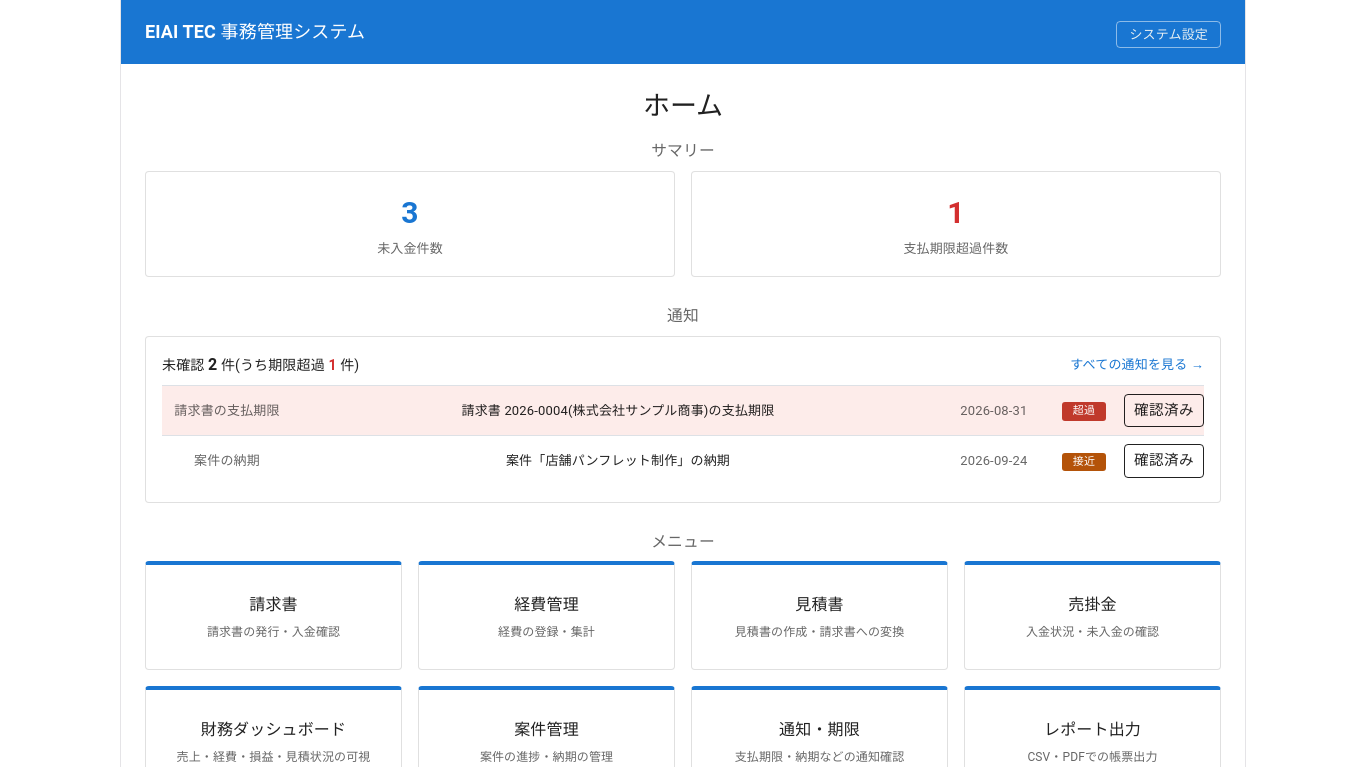
HomePage 通知エリア(F-09) › 解消済み(404)の場合はメッセージを表示して再取得する
Expected: the link "請求書 2026-0004(株式会社サンプル商事)の支払期限" is shown, [462,403,774,418]
Step 1. Click the button "確認済み" in the row of "2026-08-31" → coordinates (1164, 410), box [1124,394,1204,427]
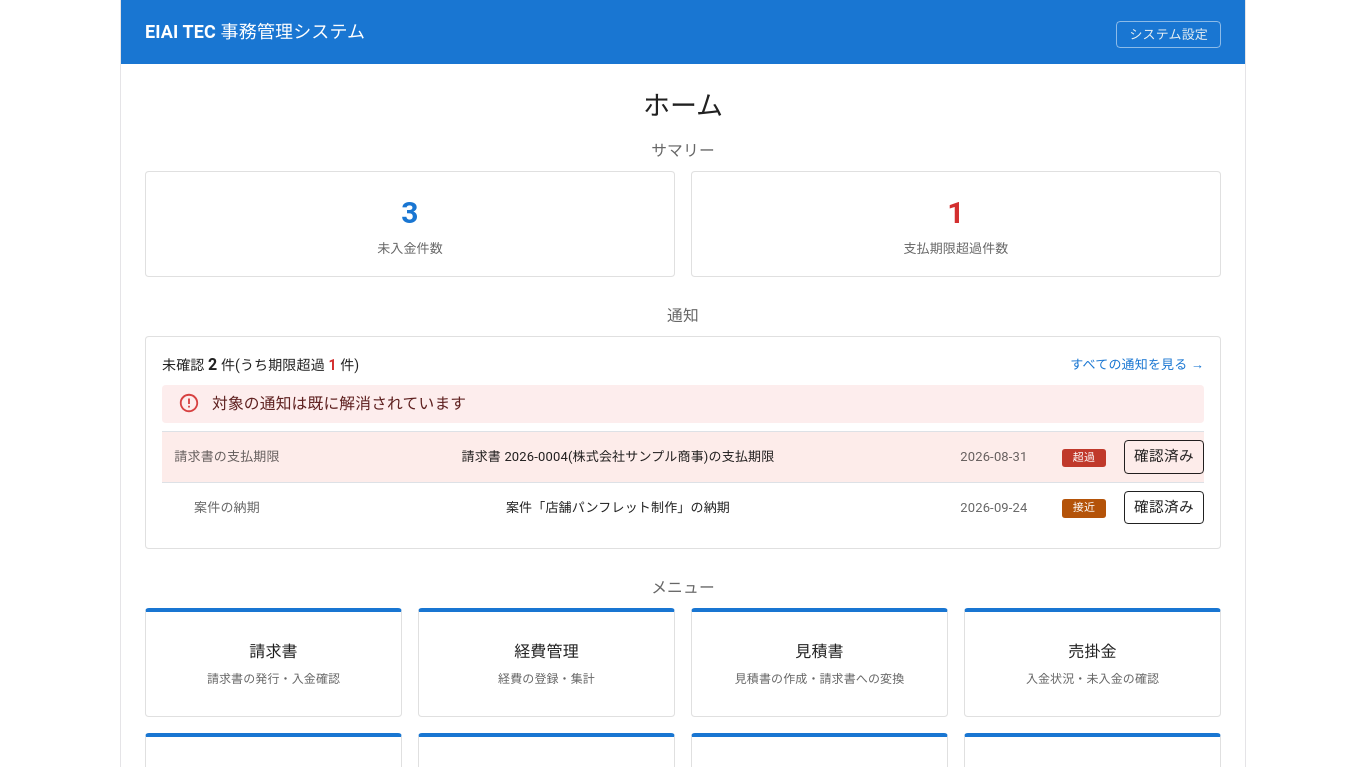
Expected: the text "対象の通知は既に解消されています" is shown, [212,394,466,412]
